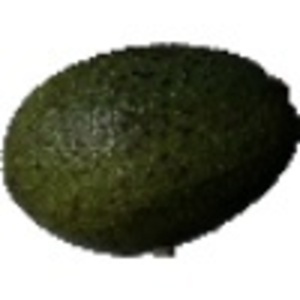abacate: (3, 39, 294, 248)
